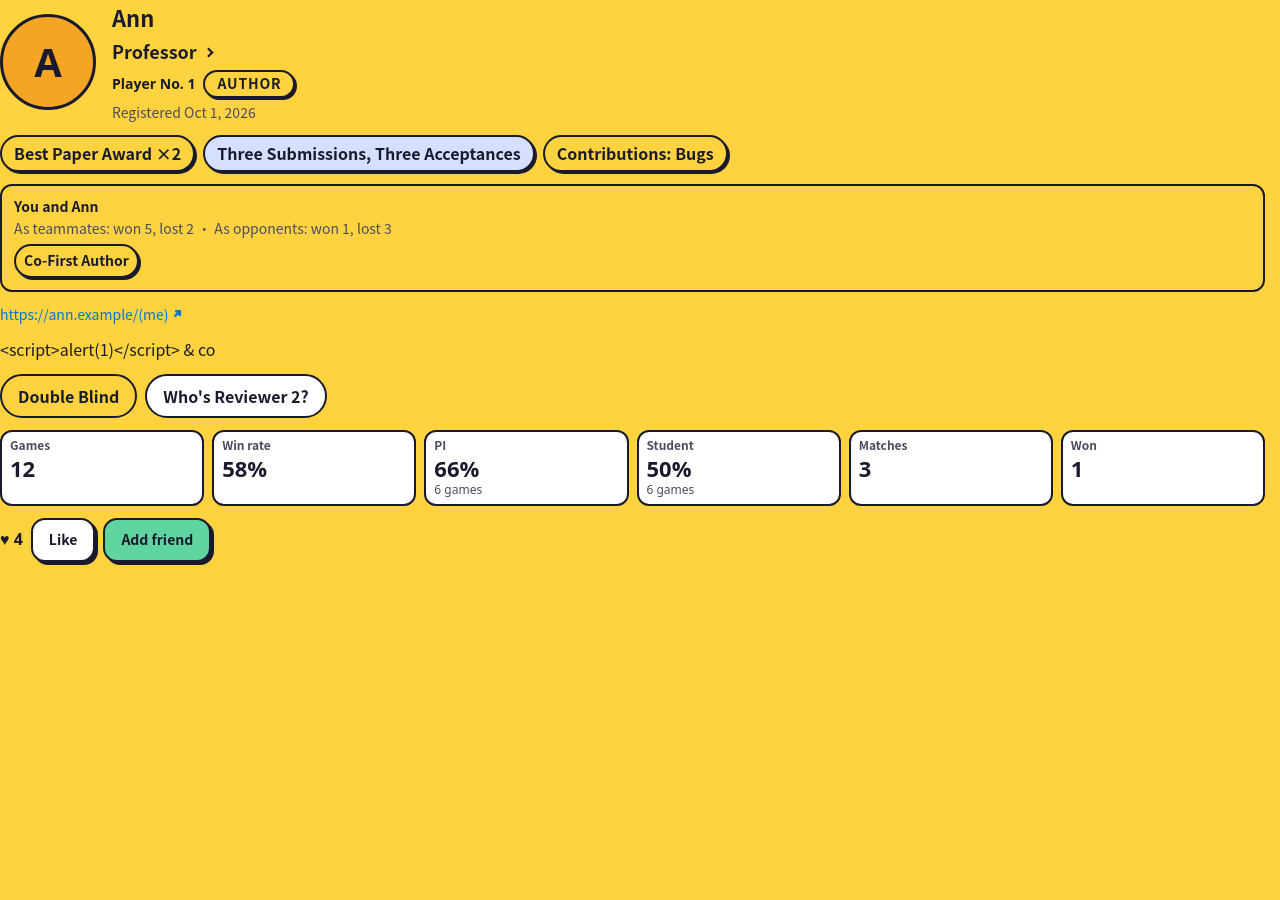
Test: ProfileCard › shows a friend what the two have played together, and nothing of it to anyone else
Expected: the heading "You and Ann" is shown, [14,196,98,216]
Click the button with class "badge".
click(76, 261)  # box [14,244,139,278]
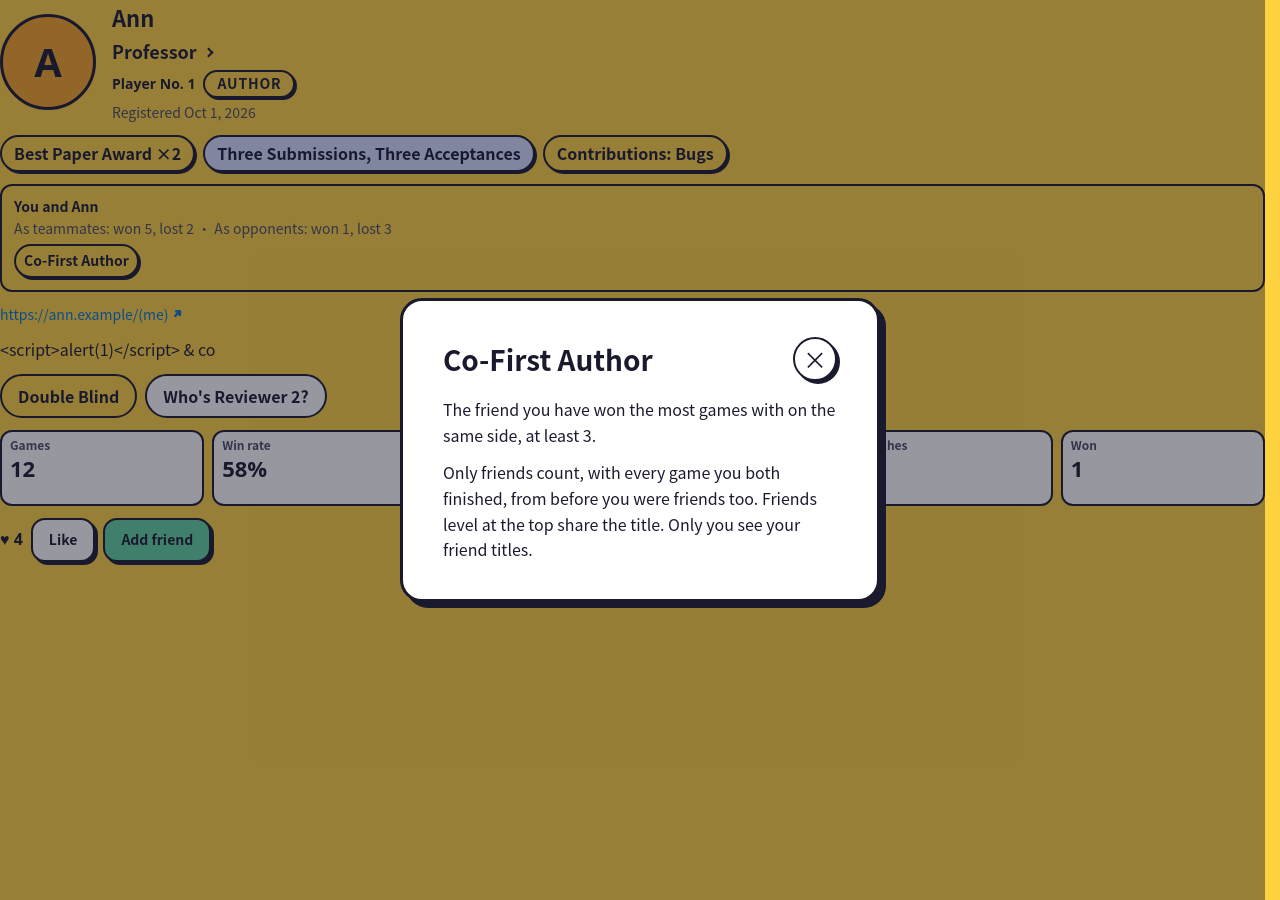
Now the heading "Co-First Author" is shown, box [443,339,653,379]
Now the dialog shows "The friend you have won the most games with on the same side, at least 3.", box [443,397,835,447]
